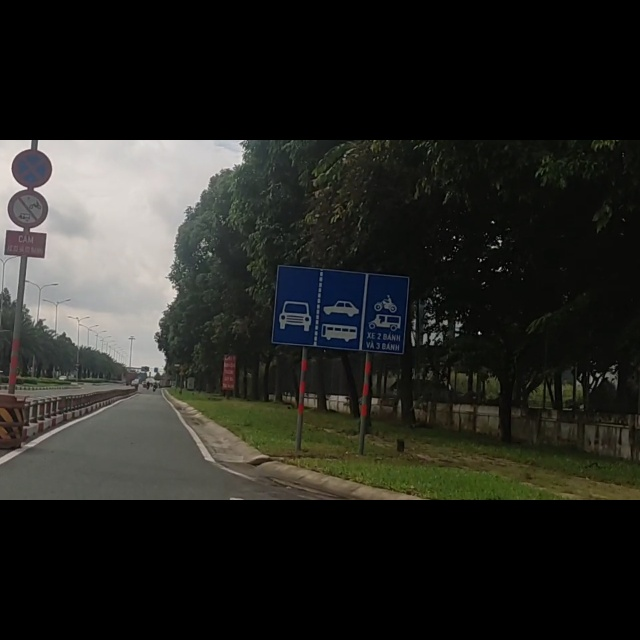bien_chi_dan: (271, 224, 409, 379), (11, 15, 52, 85), (8, 85, 48, 156)
